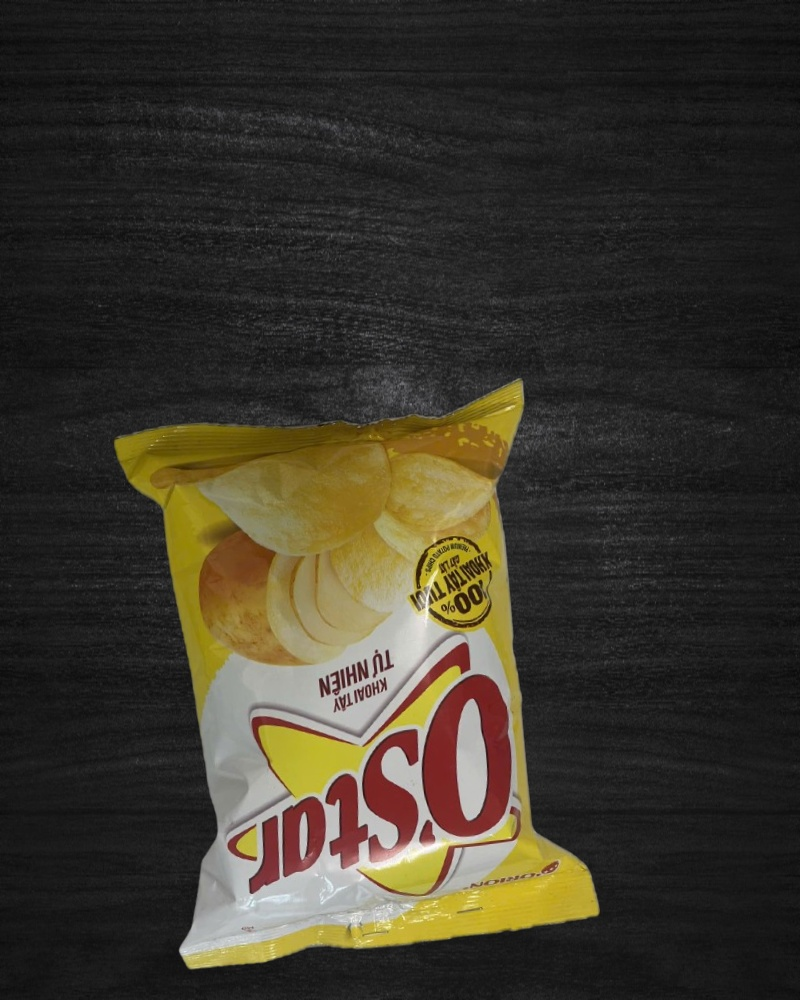Snack cua: (117, 382, 600, 966)
